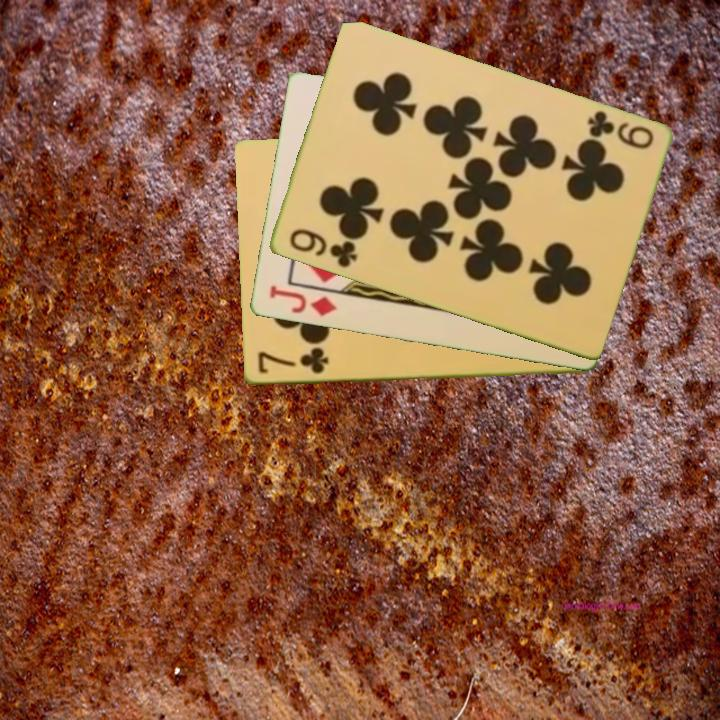7c: (254, 346, 331, 377)
9c: (285, 225, 359, 271), (583, 107, 656, 153)
Jd: (265, 282, 339, 320)
